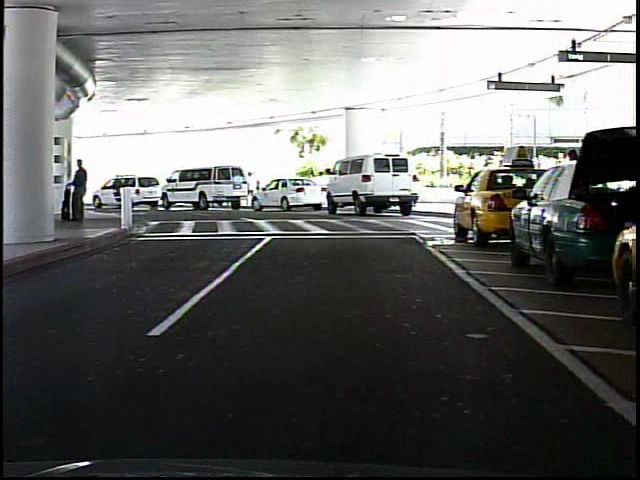person: (72, 157, 91, 223), (247, 170, 259, 191)
